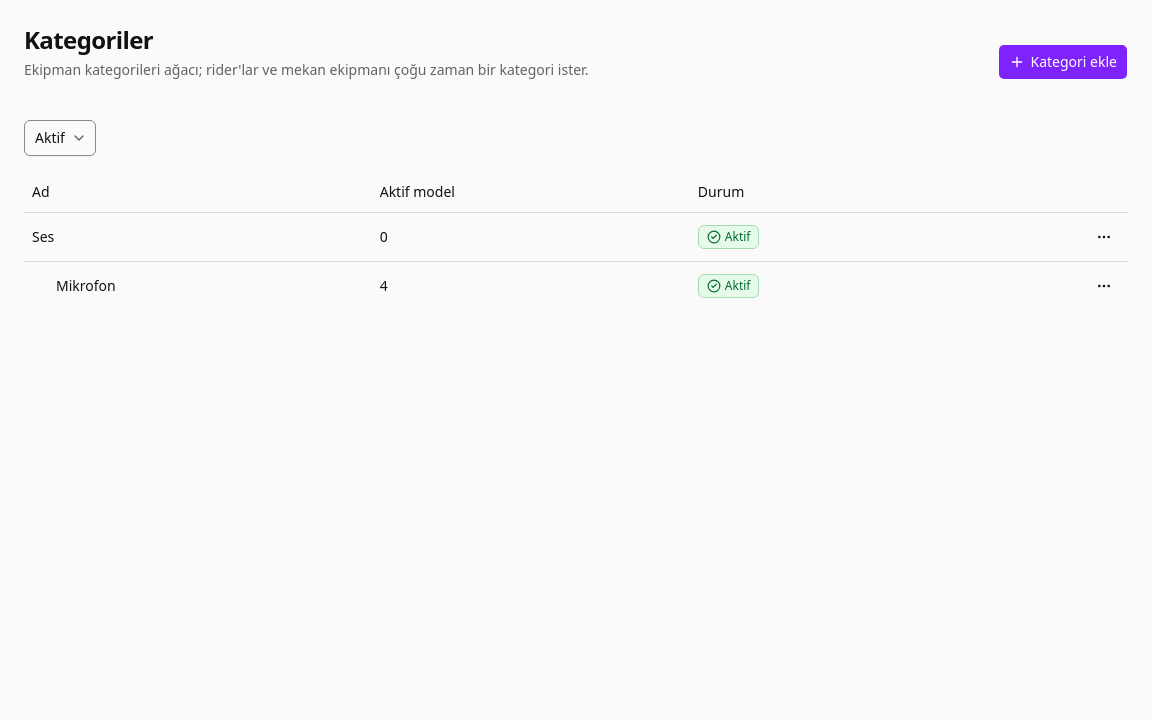
Scenario: CategoriesPage › adds a subcategory under the chosen parent and shows a taken name under the name
Click the button named "Ses için işlemler" at (1104, 236), box [1088,220,1120,252]
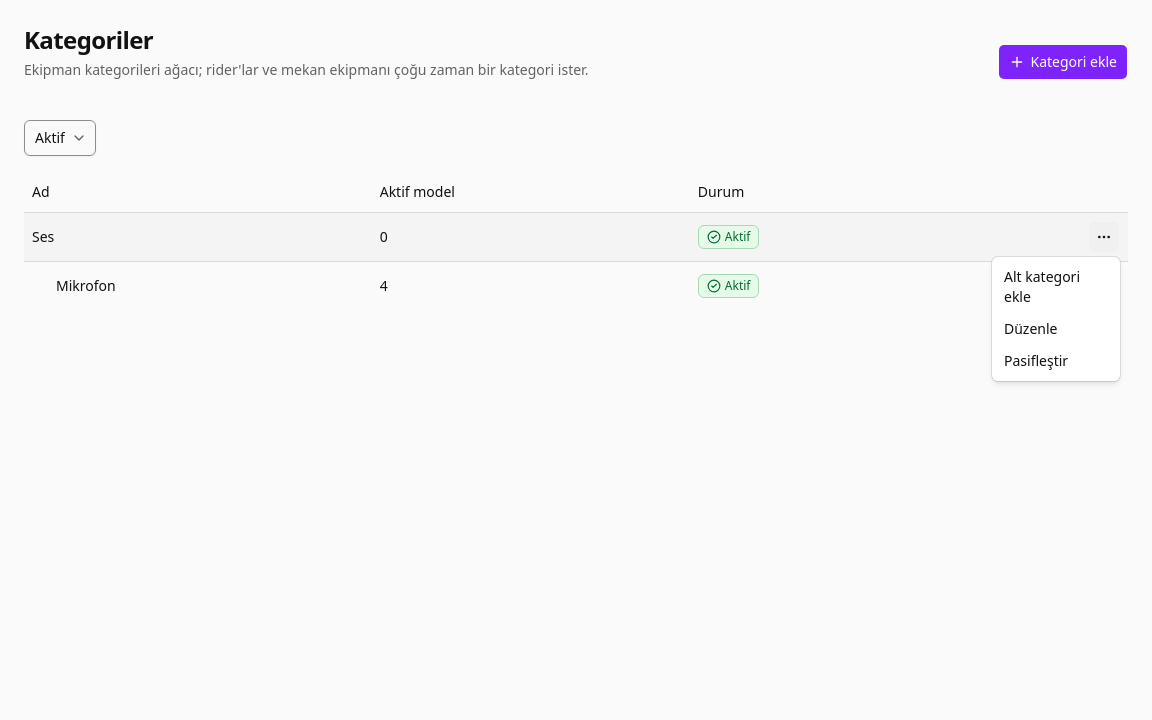
Click the menu item "Alt kategori ekle" at (1042, 286), box [1004,267,1080,306]
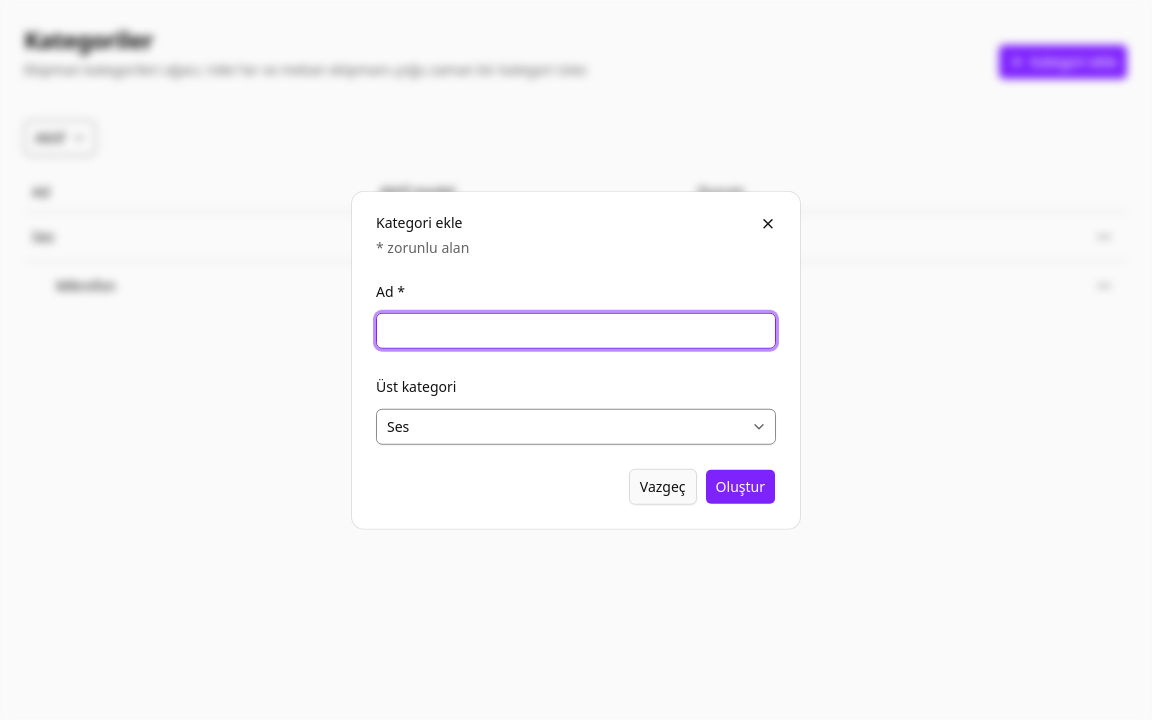
Type "Mikrofon" into the field labelled "Ad *" at (576, 331), box [376,313,776,349]
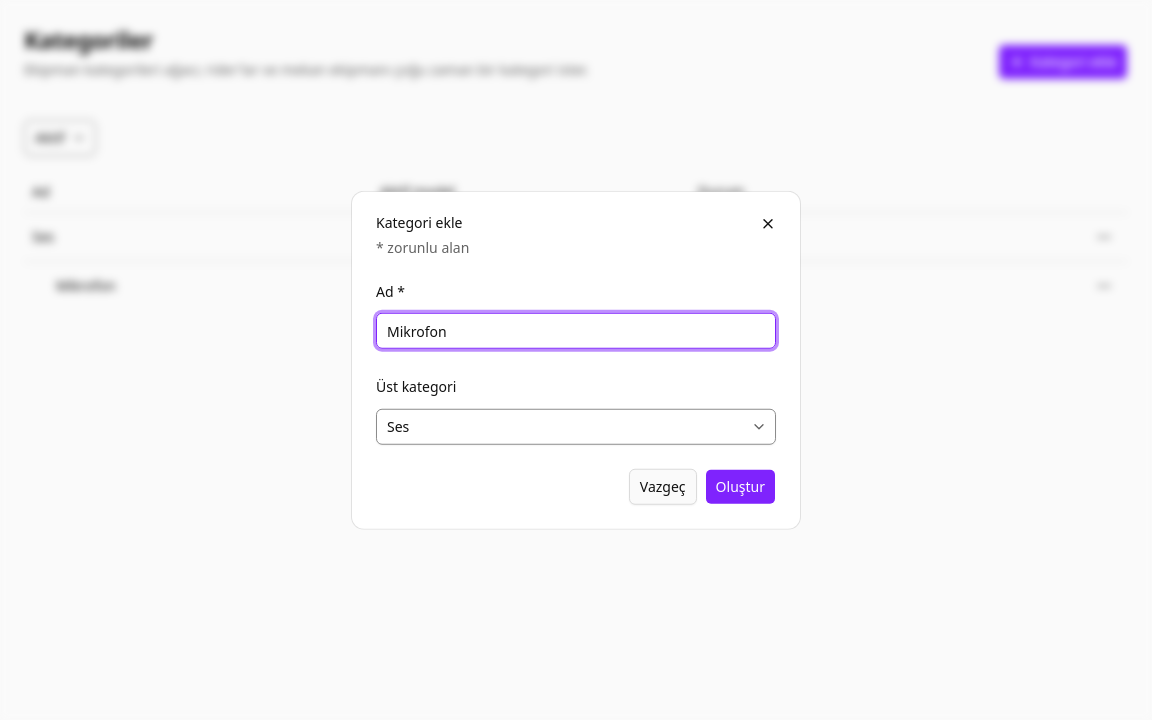
Click the button "Oluştur" at (740, 486), box [705,468,776,504]
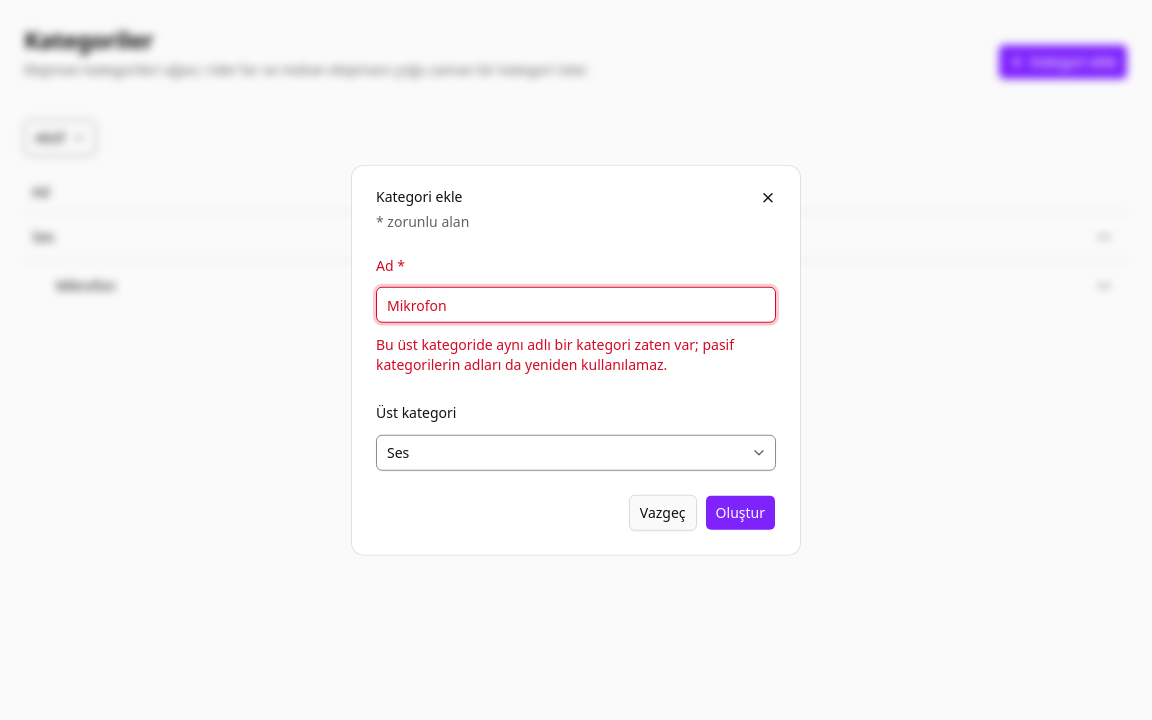
expect the text "aynı adlı bir kategori zaten var" is shown: met, box [376,335,734,374]
